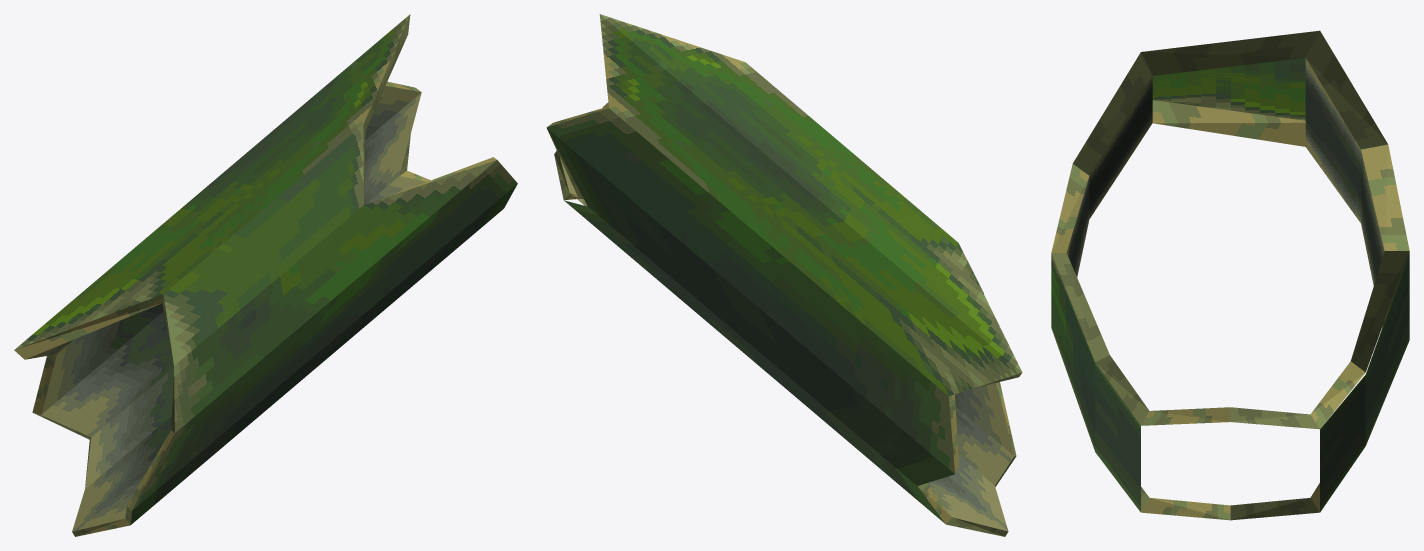
File: dead_tree_02.obj
3 renders of one model, left to right at view 1: azimuth 30°, elevation 25°; view 2: azimuth 150°, elevation 25°; view 3: azimuth 270°, elevation 25°, orthographic. The views are drawn at different scales.
Size of the model in its own units: 94.54 by 82.1 by 31.8.
